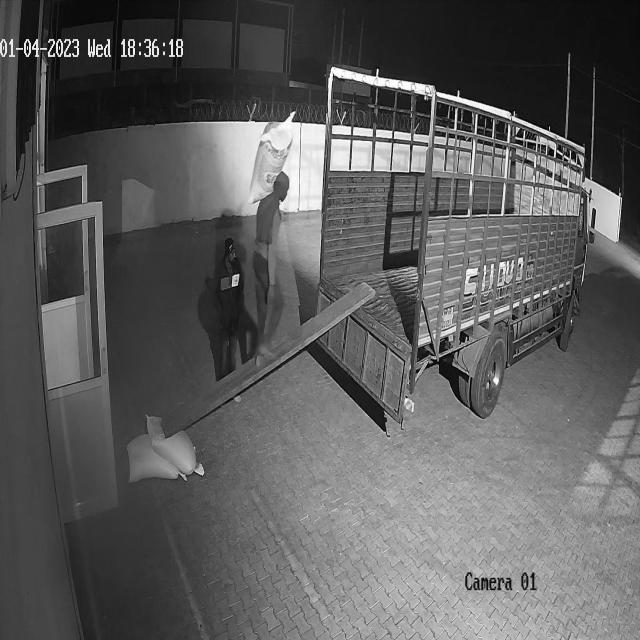sack: (248, 110, 296, 204), (144, 412, 203, 476), (127, 433, 185, 483)
